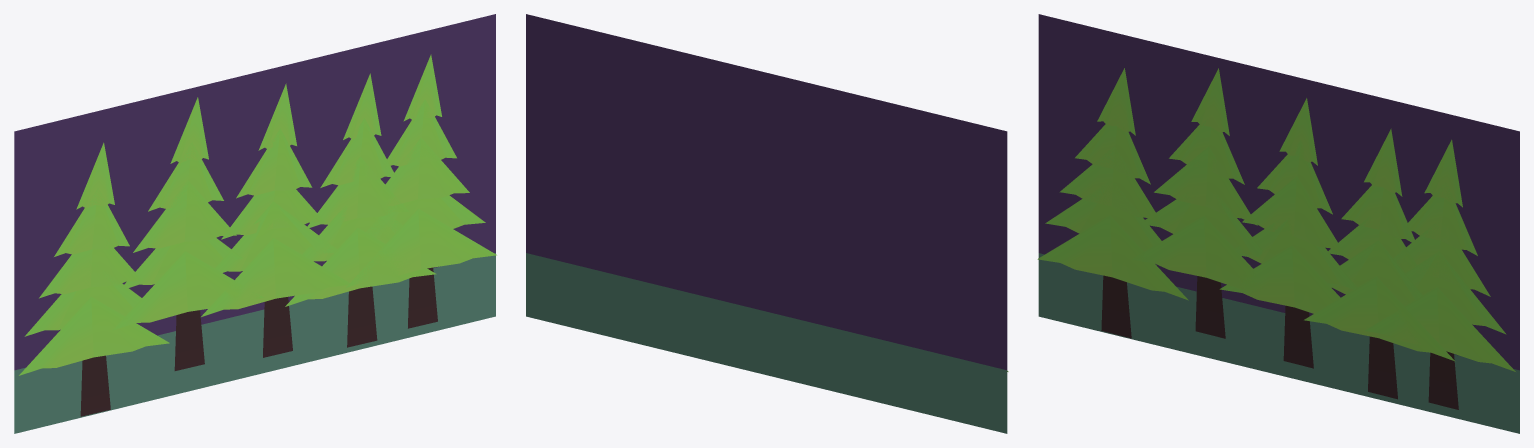
The model's file is forestcard.fbx.
3 views of the same model, side by side, from view 1: azimuth 30°, elevation 25°; view 2: azimuth 150°, elevation 25°; view 3: azimuth 330°, elevation 25° (orthographic).
Visible parts, largest first — view 1: Plane.001; view 2: Plane.001; view 3: Plane.001.
Boxes of the visible parts, x1=… form: Plane.001: x1=14, y1=14, x2=496, y2=433; Plane.001: x1=526, y1=14, x2=1008, y2=433; Plane.001: x1=1037, y1=14, x2=1519, y2=433.
Size of the model in its own units: 26.33 by 15.81 by 0.2522.
